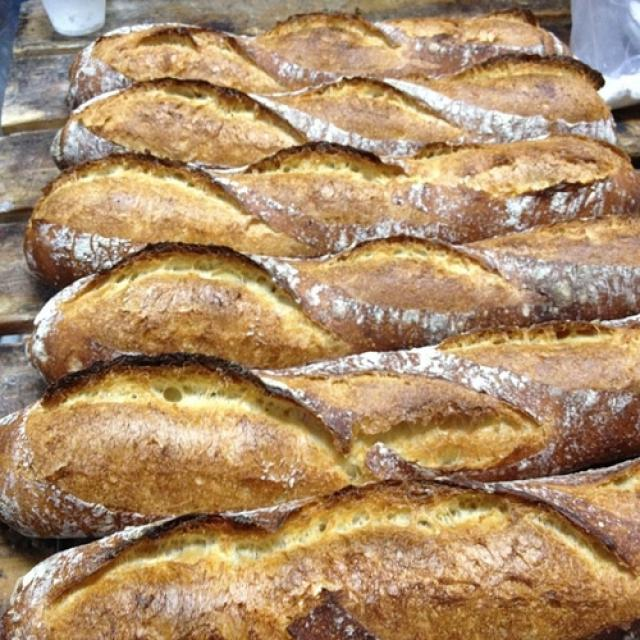Bread: (24, 11, 632, 640)
